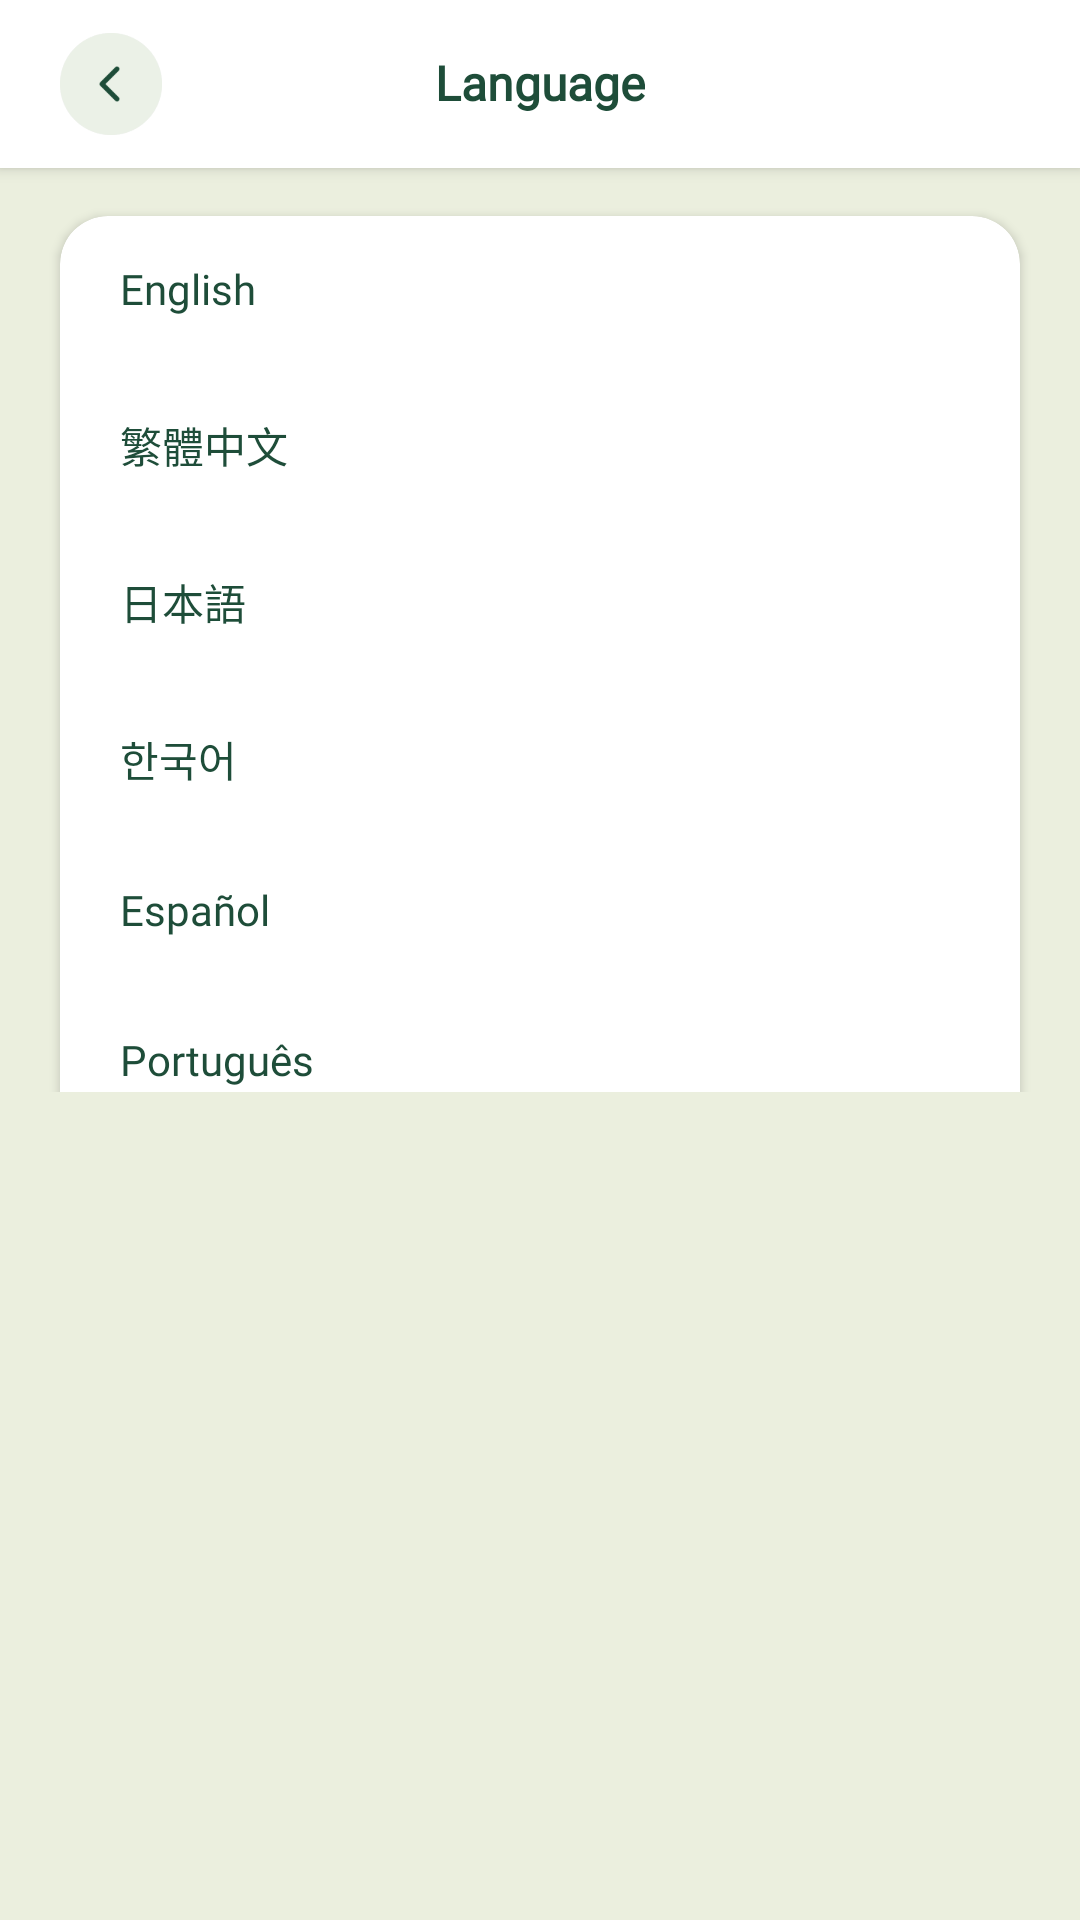

Named icons in this screenshot (1080 x 1920) and their bounding boxes, (left=x1, top=y1, right=x2, bottom=y2):
Back: (left=60, top=33, right=162, bottom=135)
